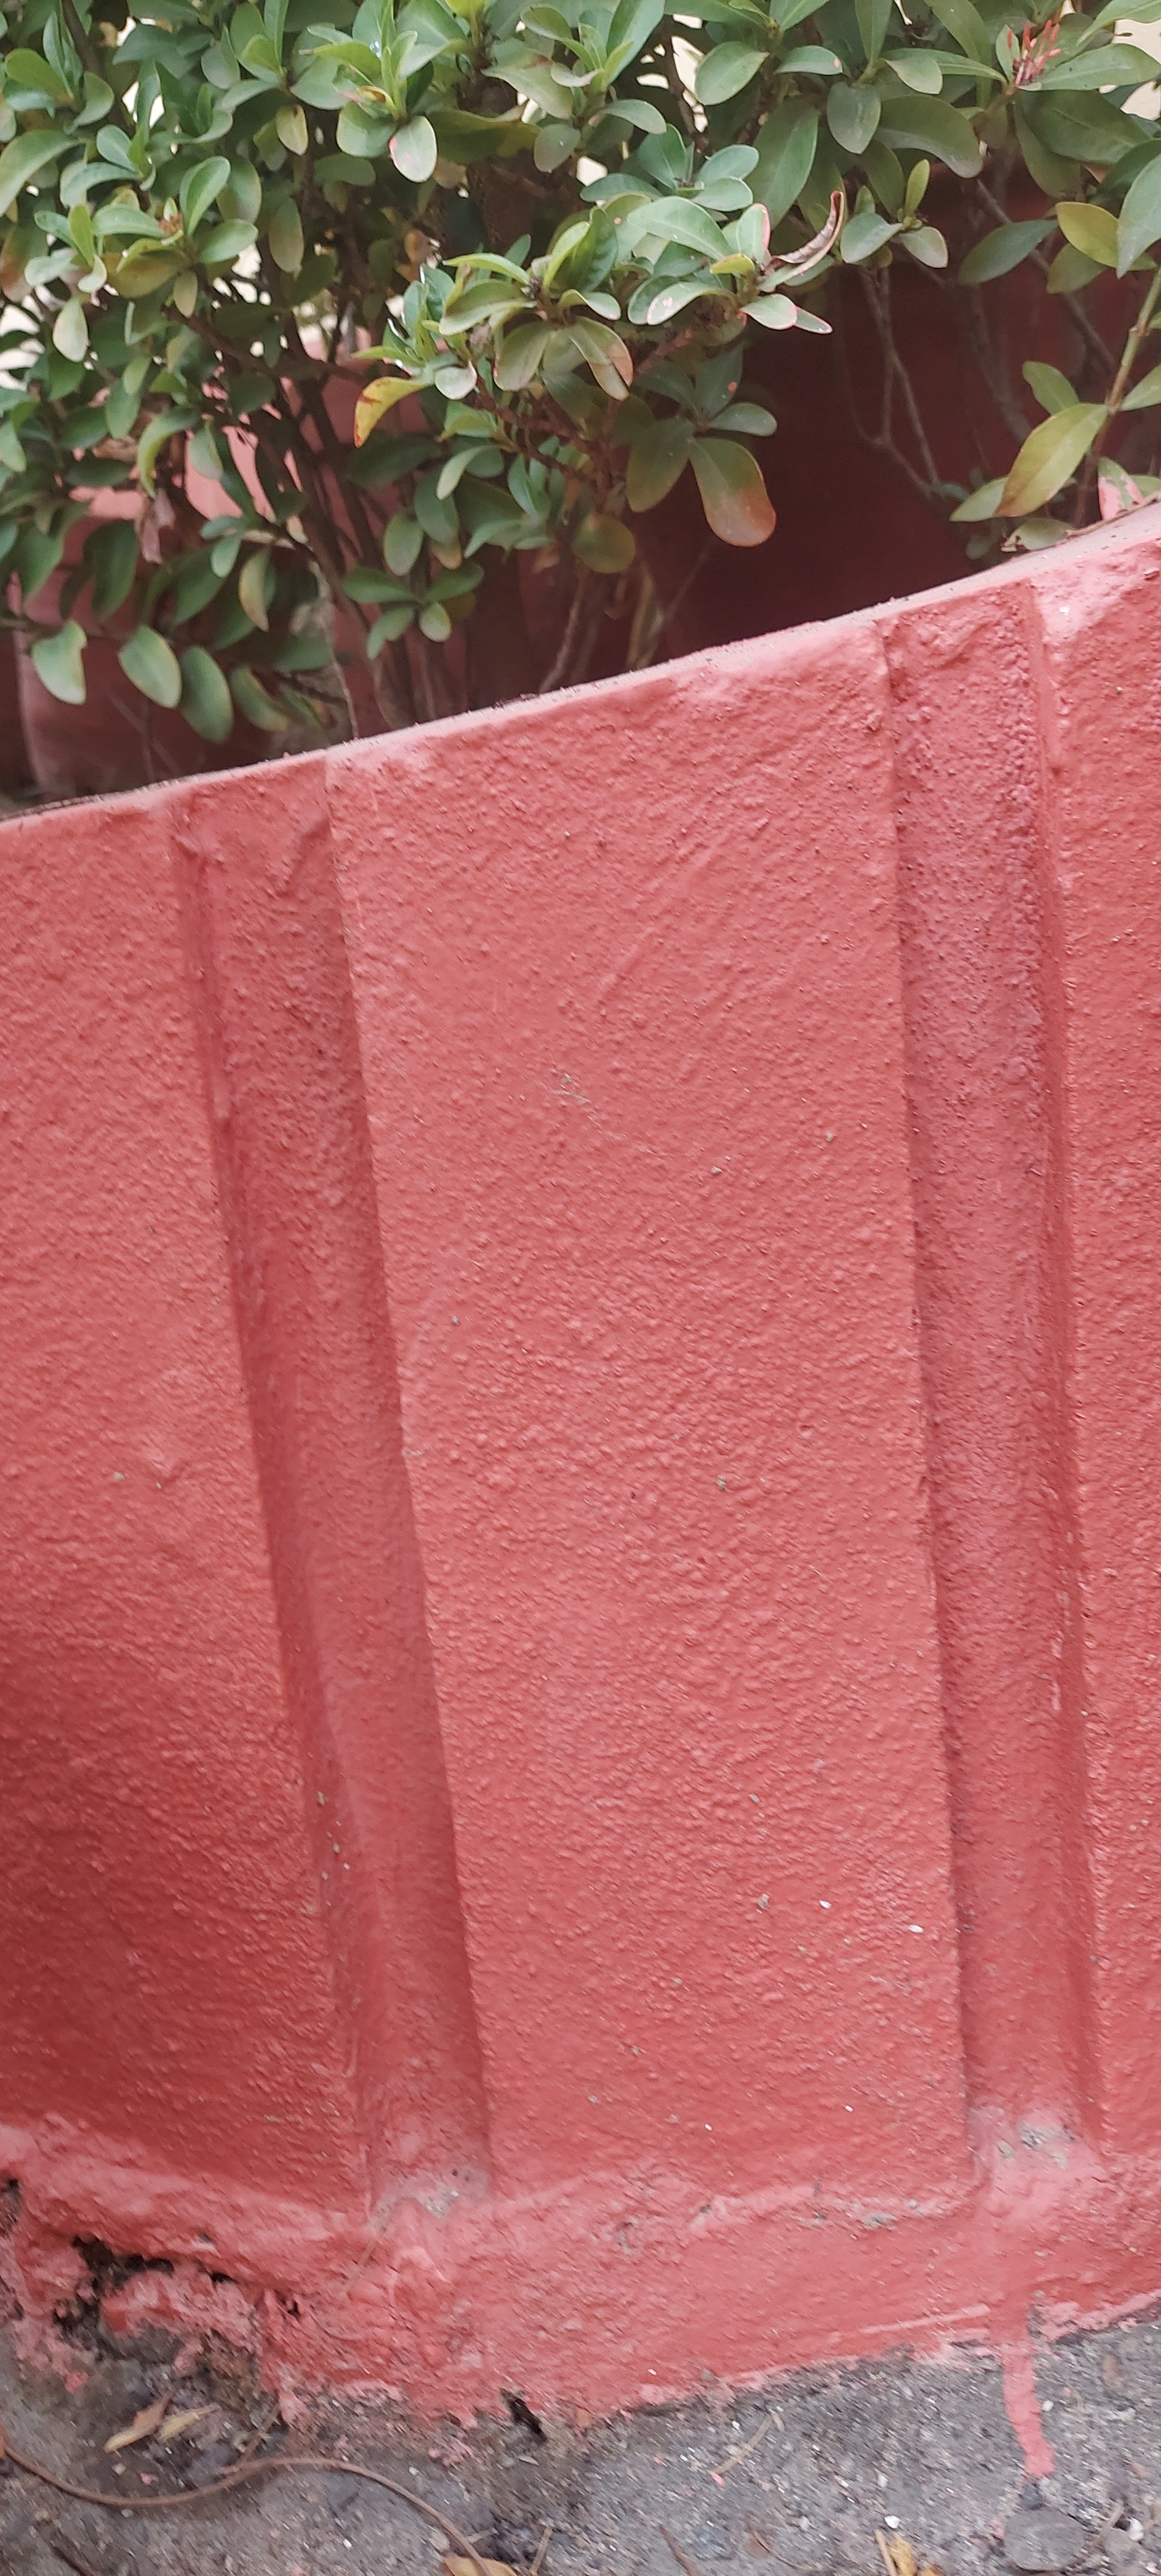Wall: (3, 826, 1161, 2326)
